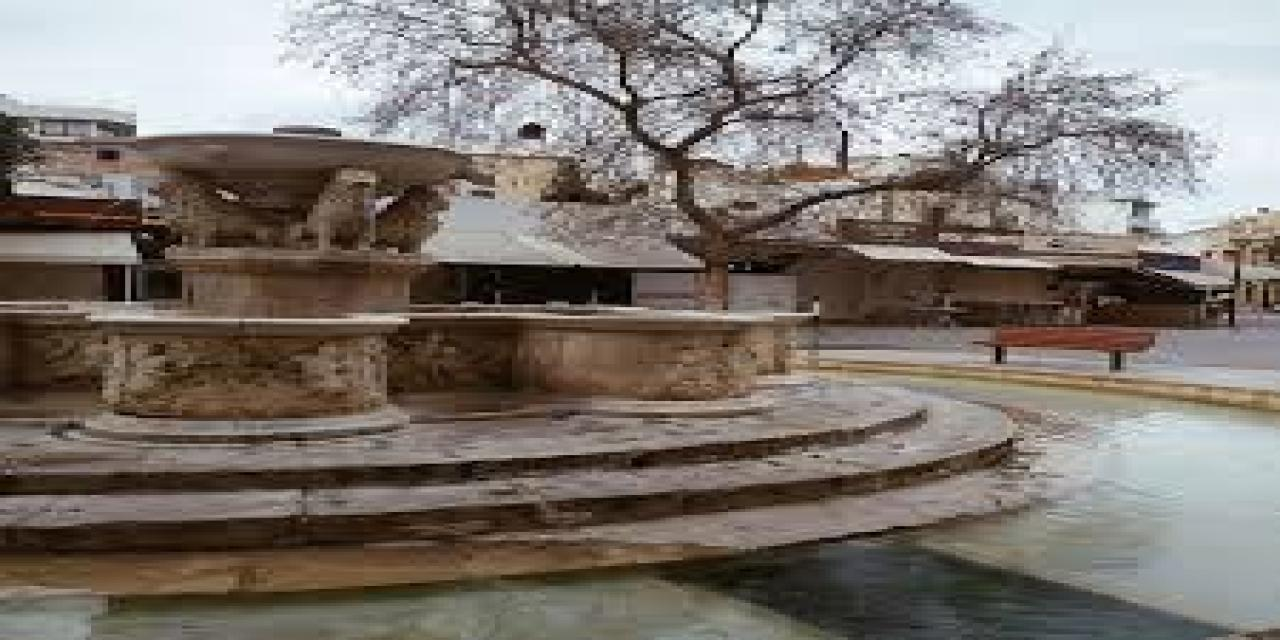Liontaria: (9, 124, 784, 425)
